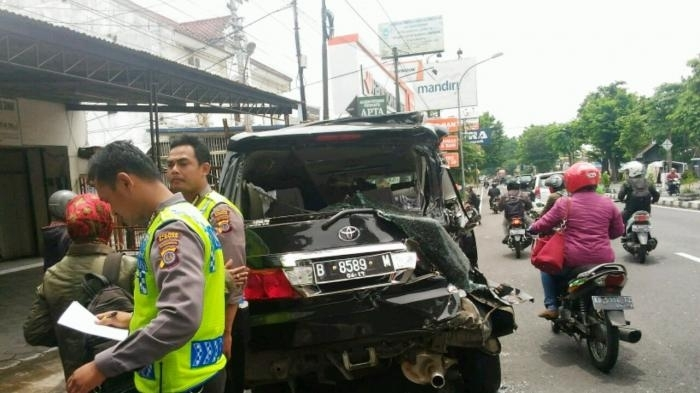plate: (313, 252, 393, 281), (593, 295, 631, 310)
